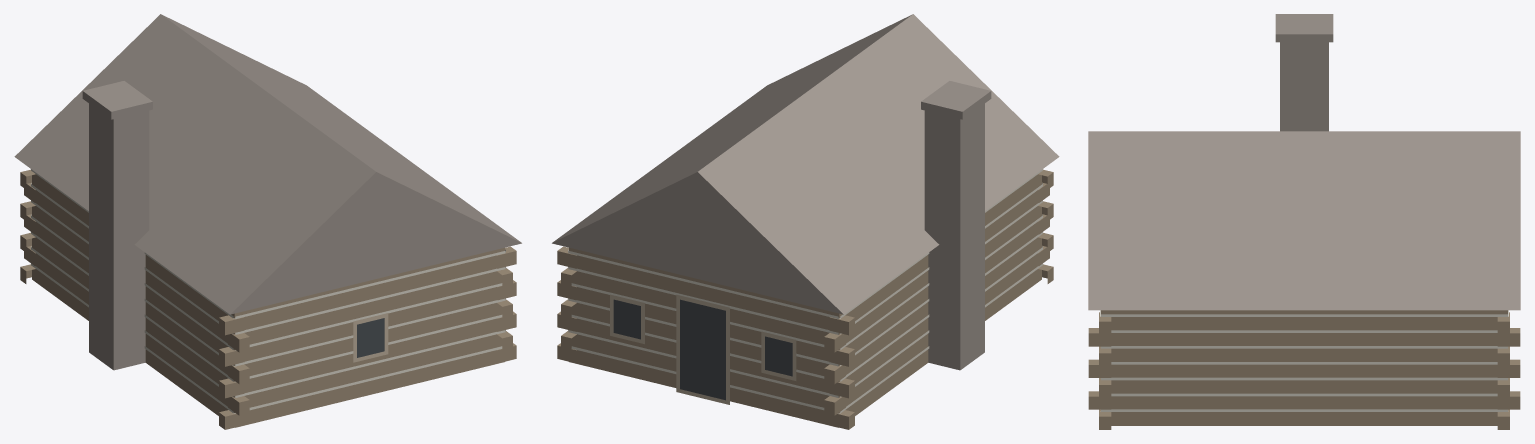
File: harmon_log_cabin__documented_1835.glb
3 views of the same model, side by side, from view 1: azimuth 30°, elevation 25°; view 2: azimuth 150°, elevation 25°; view 3: azimuth 270°, elevation 25° (orthographic).
Parts seen in each view (by area): view 1: harmon_log_cabin__documented_1835; view 2: harmon_log_cabin__documented_1835; view 3: harmon_log_cabin__documented_1835.
Part boxes in pixels (left/top/right/bottom): harmon_log_cabin__documented_1835: left=14, top=14, right=521, bottom=429; harmon_log_cabin__documented_1835: left=552, top=14, right=1059, bottom=429; harmon_log_cabin__documented_1835: left=1088, top=14, right=1520, bottom=429.
Bounding box in the file's own units: 7.17 × 5.69 × 8.43.
